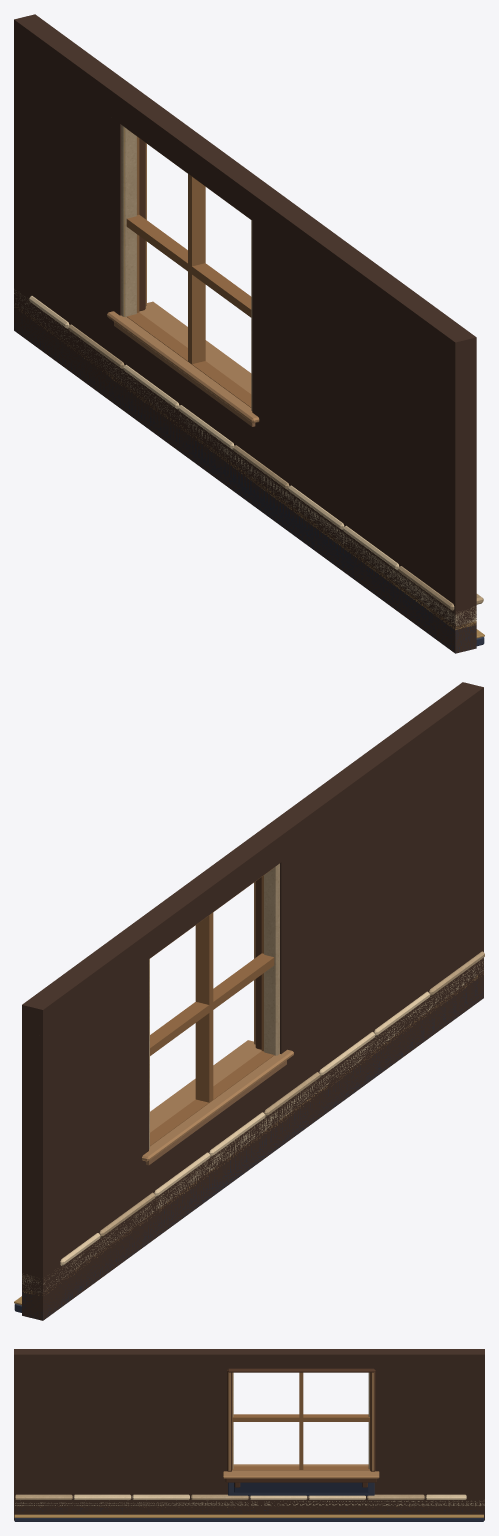
The model's file is west-wall.glb.
The picture shows the model from 3 angles, top to bottom: view 1: azimuth 30°, elevation 25°; view 2: azimuth 150°, elevation 25°; view 3: azimuth 270°, elevation 25°; orthographic projection. The views are drawn at different scales.
Visible parts, largest first — view 1: WestSouthJamb, WestBelowWindow, WestAboveWindow, WestNorthJamb, Wainscot2, WestWindowFrame, Window sill cap, Window stone reveal.001, Plaster2, Window dark jamb.001, BrassRail2, WestWindowSill; view 2: WestSouthJamb, WestBelowWindow, WestNorthJamb, WestAboveWindow, WestWindowFrame, Wainscot2, Window sill cap, Window stone reveal, Plaster2, Window dark jamb, WestWindowSill; view 3: WestSouthJamb, WestBelowWindow, WestNorthJamb, WestAboveWindow, WestWindowFrame, Side oak skirting, Side bronze floorline, Window sill cap, Window apron recessed panel, Plaster2, Window sill apron, Window inner lintel (+14 smaller).
Part boxes in pixels (x1,y1,x2,y2): WestSouthJamb: (252, 221, 476, 564); WestBelowWindow: (14, 242, 476, 653); WestAboveWindow: (14, 14, 476, 368); WestNorthJamb: (14, 46, 121, 315); Wainscot2: (14, 310, 476, 653); WestWindowFrame: (124, 128, 251, 407); Window sill cap: (107, 301, 259, 423); Window stone reveal.001: (121, 125, 136, 317); Plaster2: (14, 293, 476, 625); Window dark jamb.001: (139, 138, 145, 311); BrassRail2: (14, 307, 476, 629); WestWindowSill: (114, 322, 255, 426); WestSouthJamb: (280, 714, 483, 1053); WestBelowWindow: (22, 909, 483, 1320); WestNorthJamb: (22, 959, 148, 1231); WestAboveWindow: (22, 682, 483, 1036); WestWindowFrame: (150, 868, 274, 1146); Wainscot2: (22, 980, 483, 1320); Window sill cap: (142, 1040, 293, 1161); Window stone reveal: (264, 863, 279, 1055); Plaster2: (22, 962, 483, 1292); Window dark jamb: (255, 877, 261, 1049); WestWindowSill: (146, 1060, 286, 1165); WestSouthJamb: (14, 1368, 228, 1472); WestBelowWindow: (14, 1473, 484, 1520); WestNorthJamb: (374, 1368, 484, 1472); WestAboveWindow: (14, 1349, 484, 1368); WestWindowFrame: (232, 1372, 370, 1470); Side oak skirting: (14, 1518, 483, 1521); Side bronze floorline: (14, 1514, 483, 1517); Window sill cap: (223, 1464, 379, 1478); Window apron recessed panel: (234, 1482, 368, 1492); Plaster2: (15, 1501, 484, 1505); Window sill apron: (225, 1478, 376, 1482); Window inner lintel: (228, 1368, 374, 1372).
Bounding box in the file's own units: 0.562 × 3.5 × 9.
15 materials, 2 textured.
